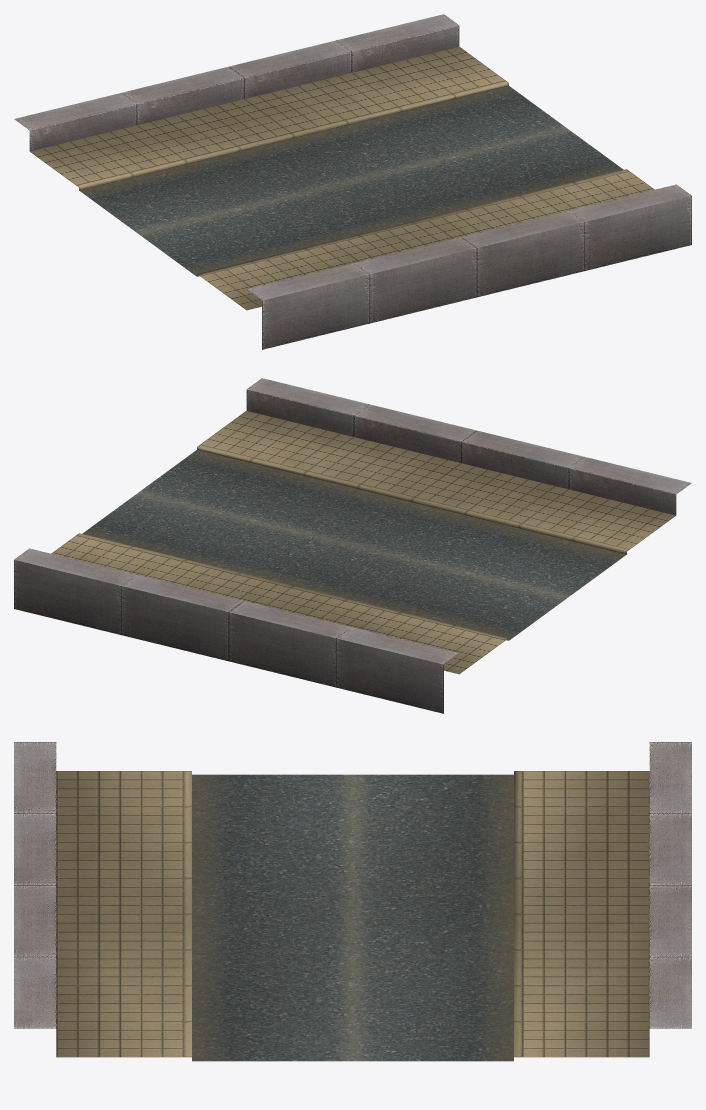
Rendered from M10_Zone1_FlyOver2.glb.
3 renders of one model, top to bottom at view 1: azimuth 30°, elevation 25°; view 2: azimuth 150°, elevation 25°; view 3: azimuth 270°, elevation 25°, orthographic. The views are drawn at different scales.
Parts seen in each view (by area): view 1: M10_ZONE1_FLYOVER2; view 2: M10_ZONE1_FLYOVER2; view 3: M10_ZONE1_FLYOVER2.
Boxes of the visible parts, box(x1,y1,x2,y2) form: M10_ZONE1_FLYOVER2: box(14, 14, 691, 349); M10_ZONE1_FLYOVER2: box(14, 378, 691, 713); M10_ZONE1_FLYOVER2: box(14, 742, 691, 1061).
Bounding box in the file's own units: 16 × 1.75 × 16.
5 materials, 5 textured.
